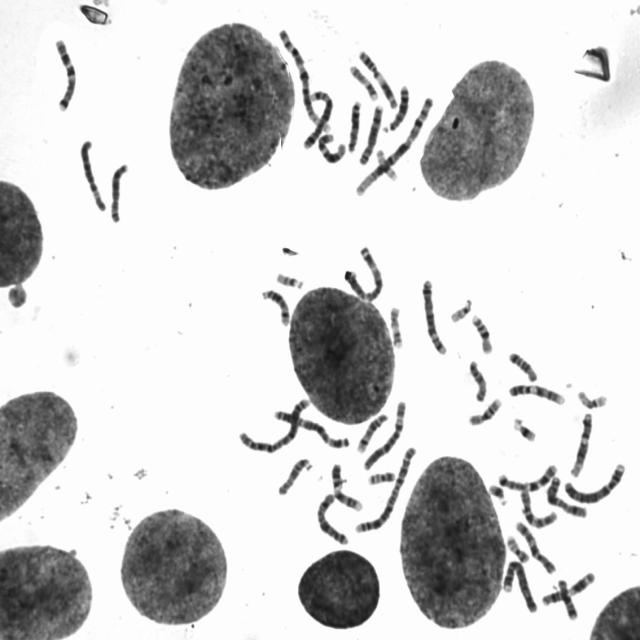A1: (352, 90, 436, 198), (274, 23, 333, 135)
A2: (352, 441, 418, 535), (235, 392, 312, 454)
A3: (270, 404, 352, 450), (340, 239, 386, 303)
B4: (560, 457, 627, 505), (499, 555, 539, 614)
B5: (418, 273, 449, 357), (299, 84, 335, 151)
C10: (511, 516, 558, 575), (516, 483, 559, 530)
C11: (354, 44, 400, 110), (537, 566, 597, 607)
C12: (566, 407, 596, 478), (314, 128, 348, 164)
C6: (359, 395, 409, 472), (76, 133, 108, 213)
C7: (51, 33, 78, 113), (495, 458, 560, 491)
C8: (355, 99, 385, 166), (106, 158, 131, 224)
C9: (327, 457, 365, 513), (504, 377, 567, 406)
D13: (380, 79, 411, 133), (344, 94, 364, 153)
D14: (353, 408, 390, 454), (258, 283, 292, 327)
D15: (274, 452, 315, 496), (465, 355, 489, 403)
E16: (464, 391, 504, 427), (468, 309, 495, 355)
E17: (346, 60, 380, 102), (386, 300, 406, 350)
E18: (505, 345, 540, 383), (554, 575, 580, 621)
F19: (372, 144, 399, 182), (574, 384, 610, 410)
F20: (502, 530, 532, 564), (364, 466, 397, 486)
G21: (509, 413, 538, 443), (485, 478, 509, 506)
G22: (446, 292, 474, 324), (273, 267, 305, 289)
X: (543, 471, 590, 519), (312, 488, 350, 546)
